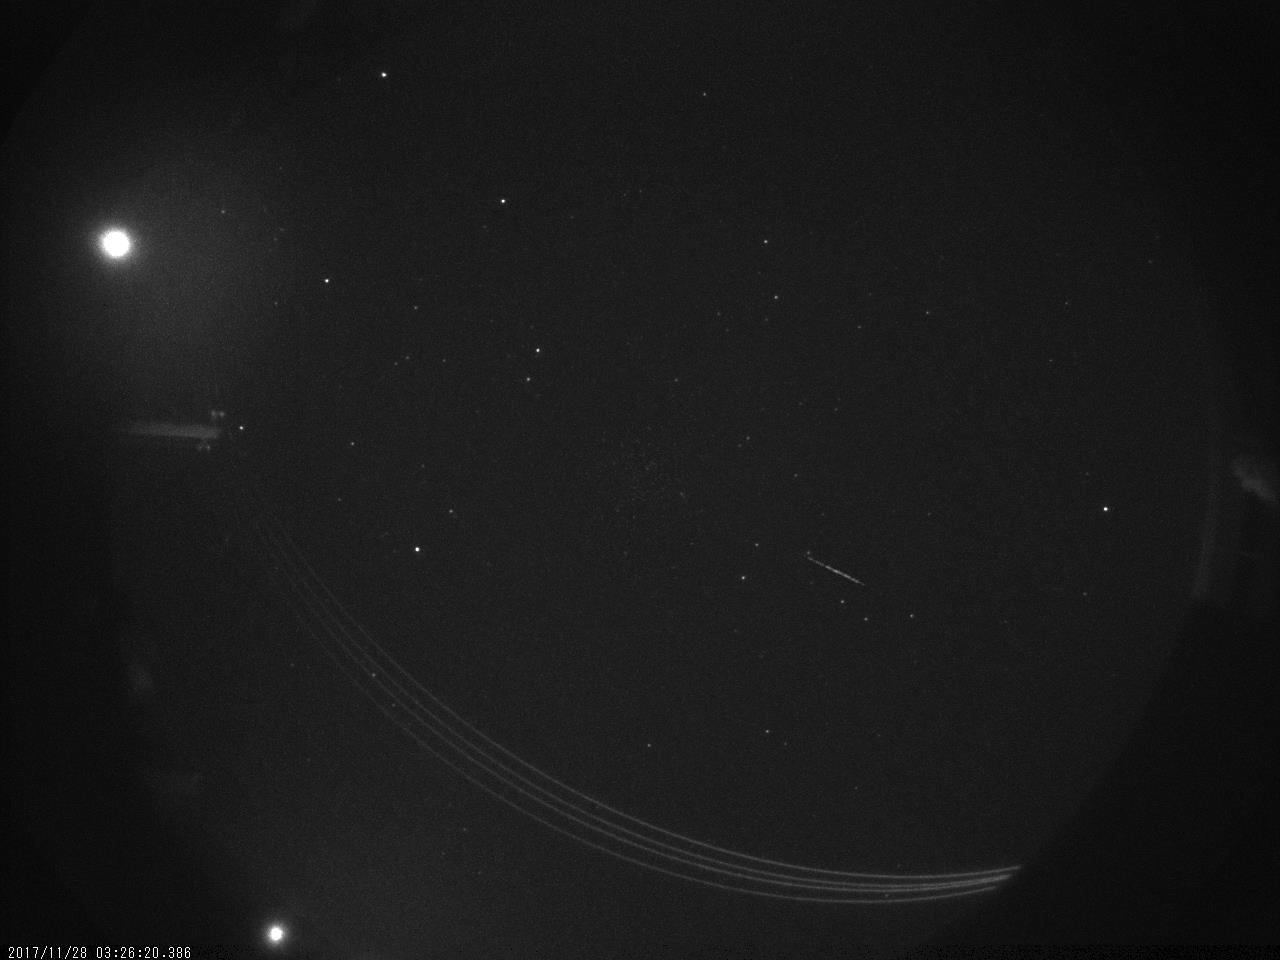meteor: (787, 542, 884, 603)
